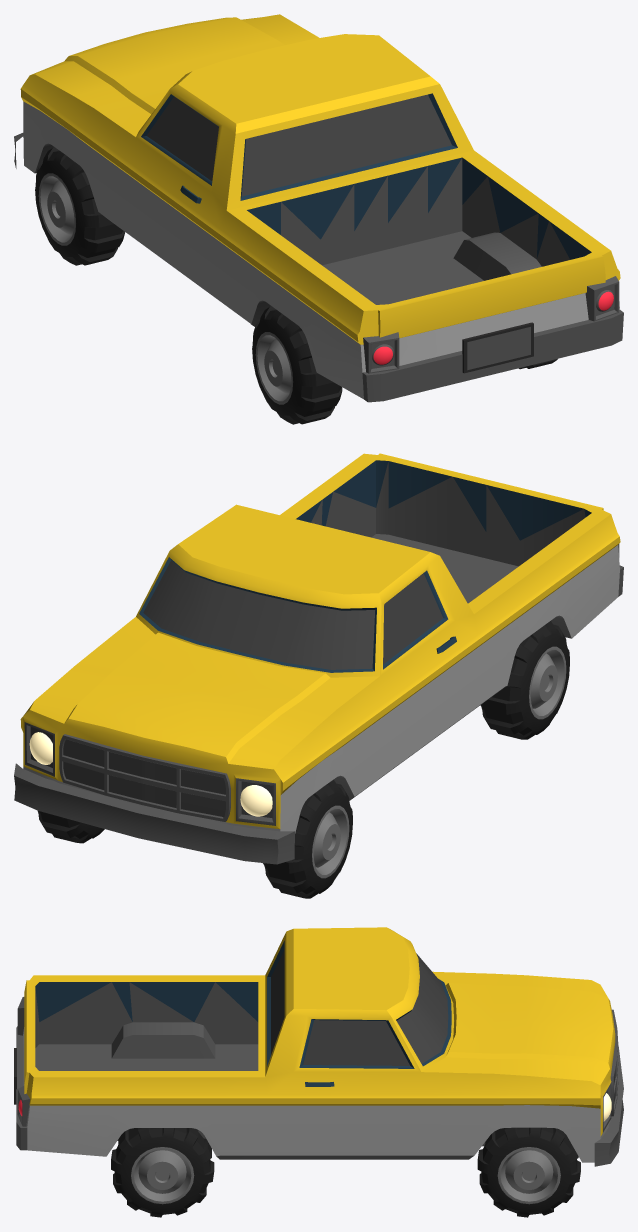
The model's file is pickup.glb.
3 renders of one model, top to bottom at view 1: azimuth 30°, elevation 25°; view 2: azimuth 150°, elevation 25°; view 3: azimuth 270°, elevation 25°, orthographic. The views are drawn at different scales.
Visible parts, largest first — view 1: Pickup_Atlas, Pickup_BodyPaint, Pickup_Glass, BackWheels, FrontWheel_L; view 2: Pickup_BodyPaint, Pickup_Atlas, Pickup_Glass, BackWheels, FrontWheel_L, Pickup, FrontWheel_R; view 3: Pickup_BodyPaint, Pickup_Atlas, BackWheels, FrontWheel_R, Pickup_Glass.
Boxes of the visible parts, bbox=[...] form: Pickup_Atlas: bbox=[14, 94, 623, 402]; Pickup_BodyPaint: bbox=[20, 14, 620, 344]; Pickup_Glass: bbox=[141, 93, 591, 259]; BackWheels: bbox=[252, 306, 557, 424]; FrontWheel_L: bbox=[35, 147, 125, 265]; Pickup_BodyPaint: bbox=[20, 453, 620, 829]; Pickup_Atlas: bbox=[14, 461, 623, 864]; Pickup_Glass: bbox=[139, 460, 591, 672]; BackWheels: bbox=[480, 621, 569, 739]; FrontWheel_L: bbox=[263, 779, 352, 898]; Pickup: bbox=[29, 732, 272, 816]; FrontWheel_R: bbox=[37, 811, 104, 843]; Pickup_BodyPaint: bbox=[24, 927, 615, 1136]; Pickup_Atlas: bbox=[14, 950, 623, 1166]; BackWheels: bbox=[111, 1128, 214, 1217]; FrontWheel_R: bbox=[477, 1127, 580, 1217]; Pickup_Glass: bbox=[35, 940, 451, 1086].
Bounding box in the file's own units: 2.23 × 1.78 × 5.
Materials: 5 (1 with a texture image).
